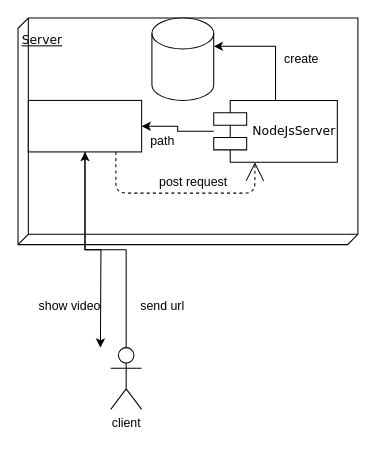
The diagram is 376 pixels wide and 449 high, and some of its shapes have lost their labels. The shapes that lost their labels are listed below. From the top down, each one's centre as x and y in pixels, then its label:
the point at 182,58: videoData
the point at 84,125: «interface» MP4Create
